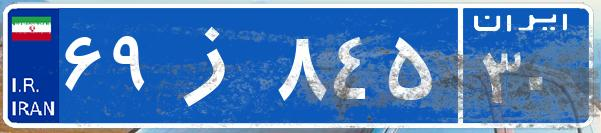0: (525, 38, 570, 115)
3: (475, 38, 525, 113)
4: (330, 28, 385, 110)
5: (385, 28, 445, 110)
6: (57, 26, 110, 107)
8: (273, 28, 330, 110)
9: (110, 28, 158, 105)
ز: (158, 15, 273, 115)
